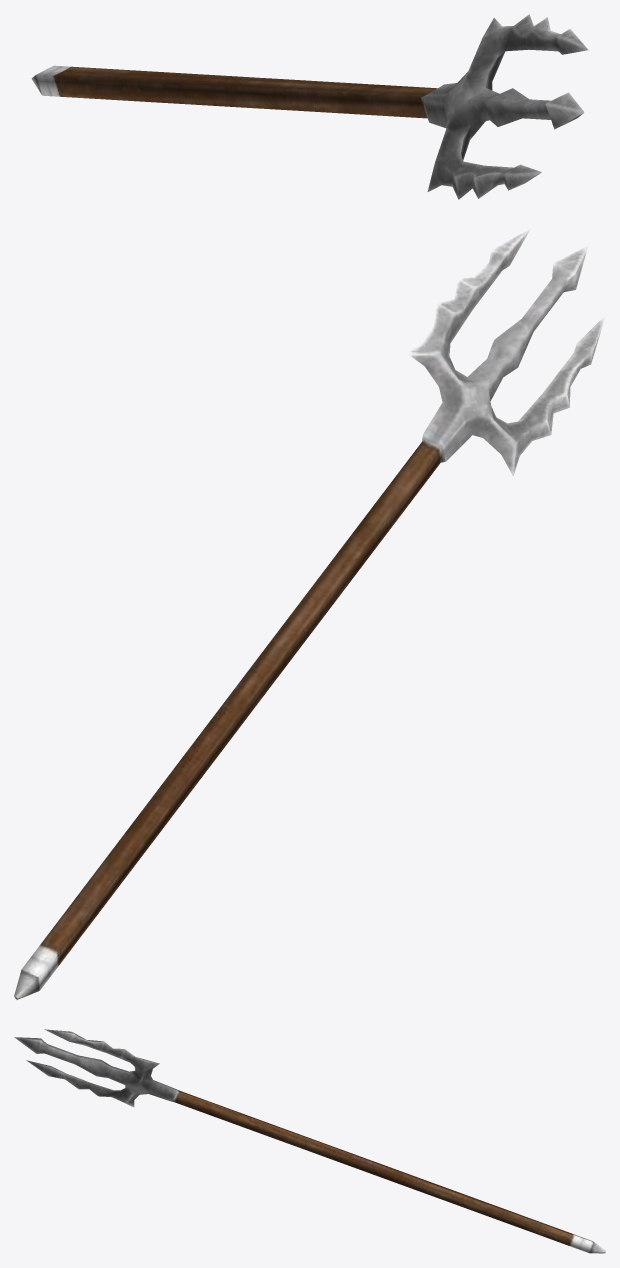
Rendered from rider-weapon-slice-bronzeweapons.glb.
The picture shows the model from 3 angles, top to bottom: view 1: azimuth 30°, elevation 25°; view 2: azimuth 150°, elevation 25°; view 3: azimuth 270°, elevation 25°; orthographic projection. The views are drawn at different scales.
Size of the model in its own units: 0.2294 by 0.9836 by 2.37.
Materials: 1 (1 with a texture image).
